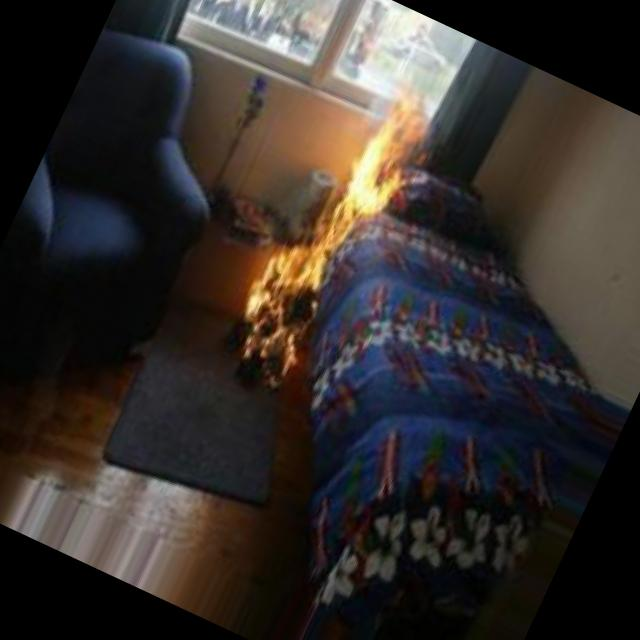fire: (228, 72, 432, 384)
